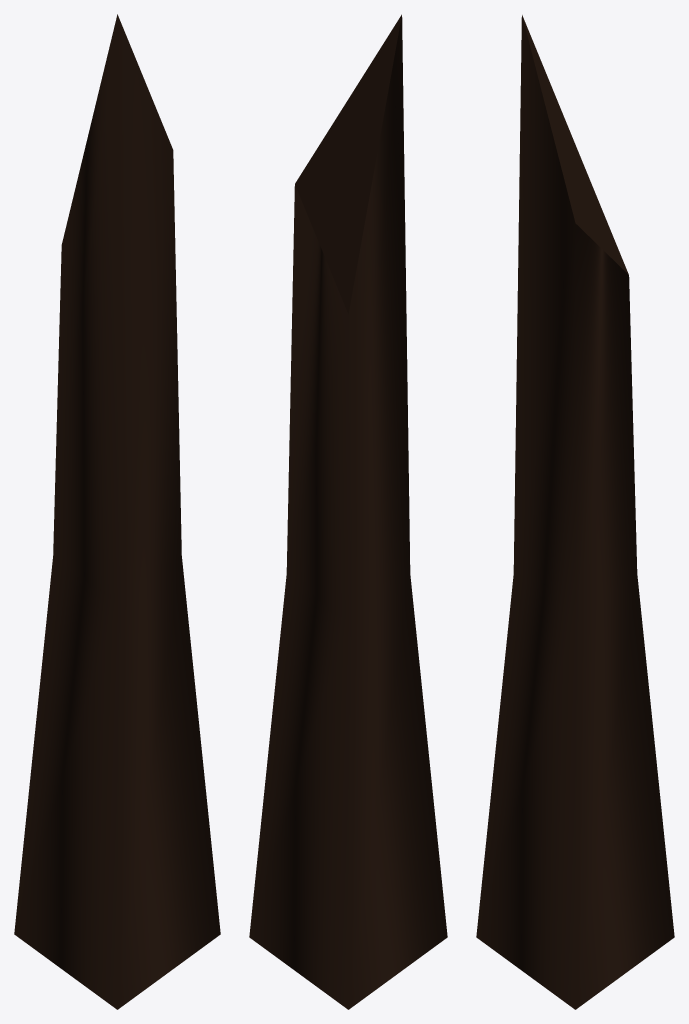
Rendered from broken_tree_01.FBX.
3 renders of one model, left to right at view 1: azimuth 30°, elevation 25°; view 2: azimuth 150°, elevation 25°; view 3: azimuth 270°, elevation 25°, orthographic. The views are drawn at different scales.
Visible parts, largest first — view 1: Object001; view 2: Object001; view 3: Object001.
Part boxes in pixels (x1,y1,x2,y2): Object001: [14, 14, 220, 1009]; Object001: [249, 14, 447, 1009]; Object001: [476, 15, 674, 1009].
Size of the model in its own units: 35.48 by 213 by 40.97.
